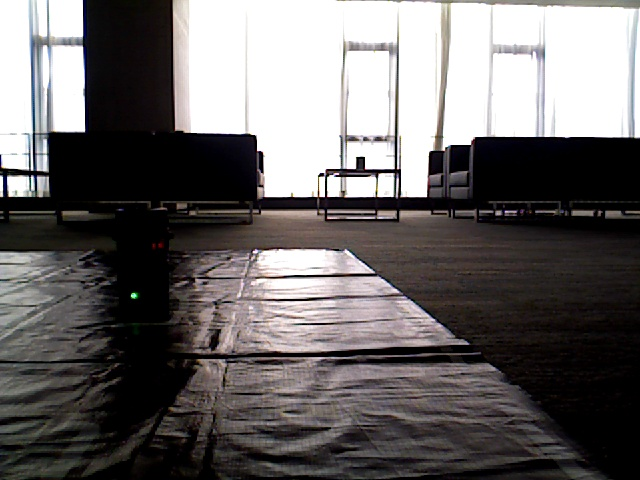green: (120, 217, 150, 306)
